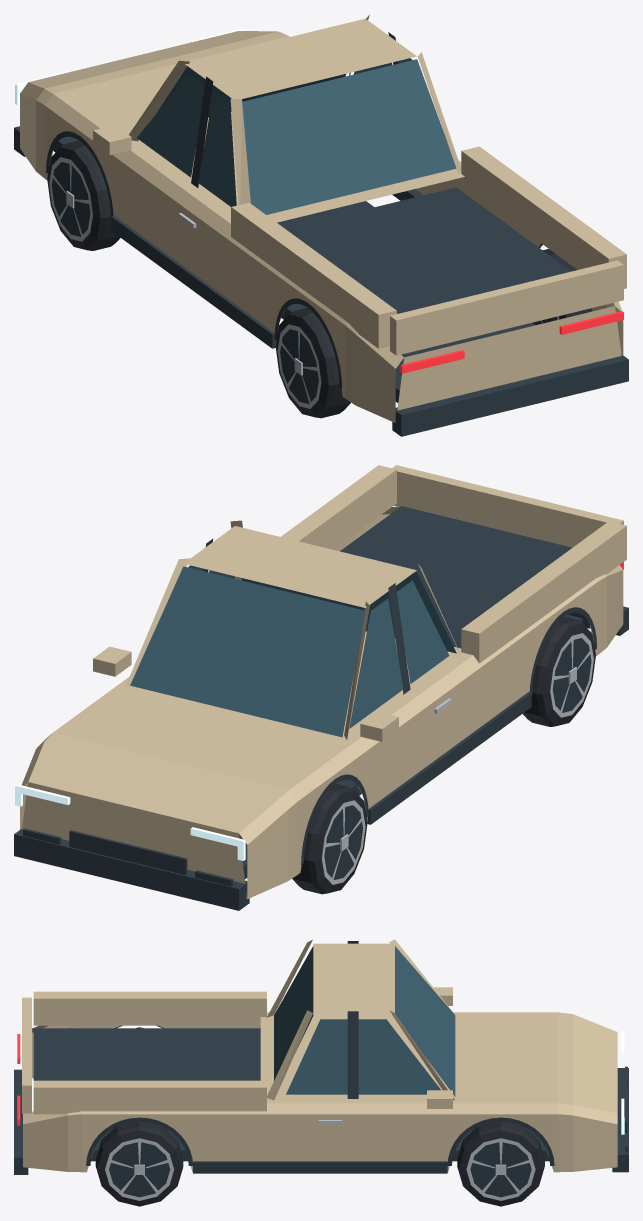
The model's file is forge_u.glb.
The picture shows the model from 3 angles, top to bottom: view 1: azimuth 30°, elevation 25°; view 2: azimuth 150°, elevation 25°; view 3: azimuth 270°, elevation 25°; orthographic projection. The views are drawn at different scales.
Visible parts, largest first — view 1: Body, Wheel_2, Wheel_0; view 2: Body, Wheel_0, Wheel_2; view 3: Body, Wheel_3, Wheel_1.
Part boxes in pixels (x1,y1,x2,y2): Body: [14, 14, 628, 436]; Wheel_2: [275, 307, 350, 418]; Wheel_0: [47, 140, 120, 250]; Body: [14, 465, 628, 910]; Wheel_0: [292, 783, 367, 894]; Wheel_2: [522, 616, 595, 726]; Body: [14, 939, 628, 1174]; Wheel_3: [95, 1121, 183, 1206]; Wheel_1: [457, 1121, 544, 1206].
Size of the model in its own units: 2.23 by 1.68 by 5.19.
